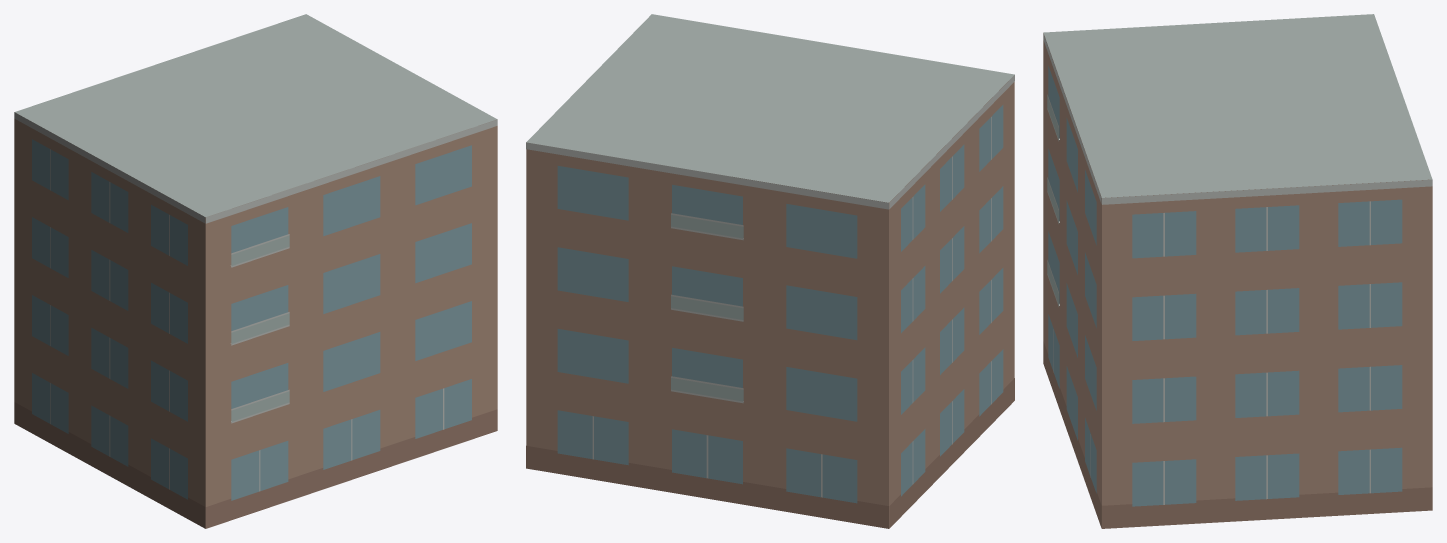
File: survey-upis-32576324.glb
3 views of the same model, side by side, from view 1: azimuth 30°, elevation 25°; view 2: azimuth 150°, elevation 25°; view 3: azimuth 270°, elevation 25° (orthographic). The views are drawn at different scales.
Visible parts, largest first — view 1: survey-upis-32576324.tmp; view 2: survey-upis-32576324.tmp; view 3: survey-upis-32576324.tmp.
Boxes of the visible parts, x1,y1,x2,y2 form: survey-upis-32576324.tmp: (14,14,497,528); survey-upis-32576324.tmp: (526,14,1014,528); survey-upis-32576324.tmp: (1043,14,1432,528).
Bounding box in the file's own units: 13.96 × 11.7 × 12.48.
